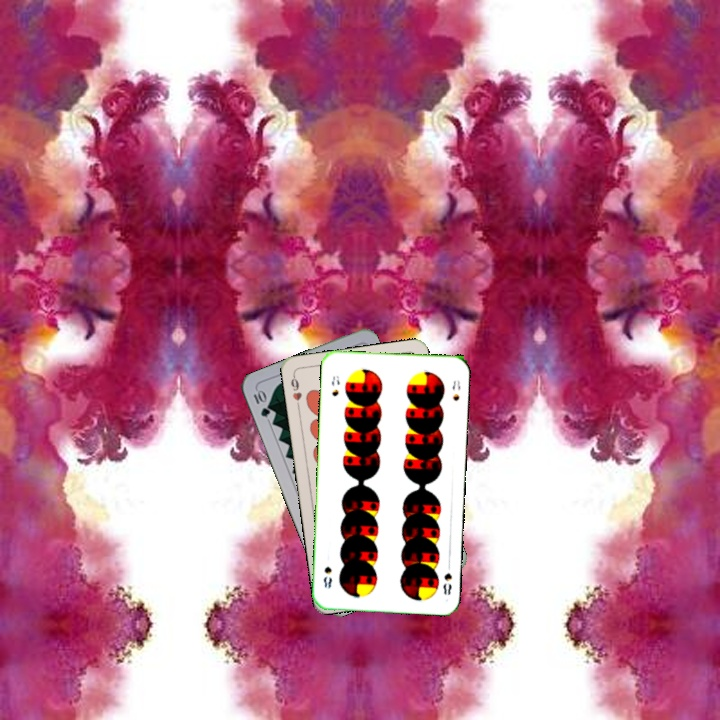G10: (249, 386, 273, 420)
H9: (287, 371, 304, 411)
S8: (439, 559, 454, 597), (327, 372, 342, 399)
